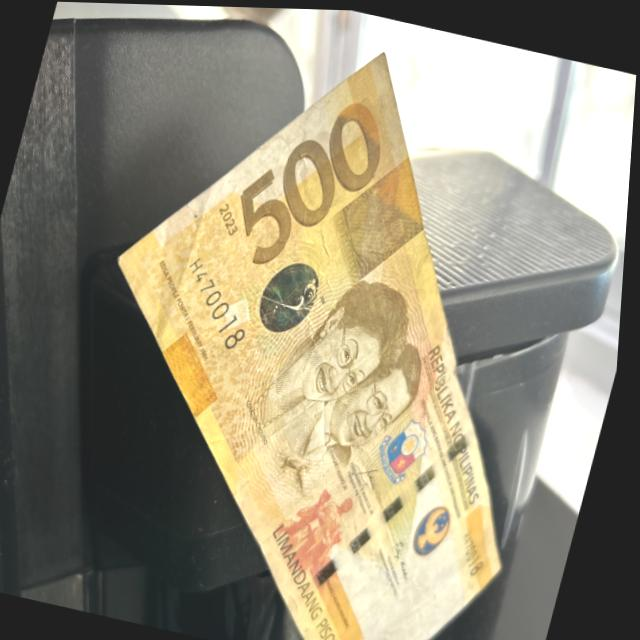concealed_value: (346, 159, 429, 284)
optically_variable_device: (255, 251, 329, 337)
watermark: (370, 527, 485, 640)
